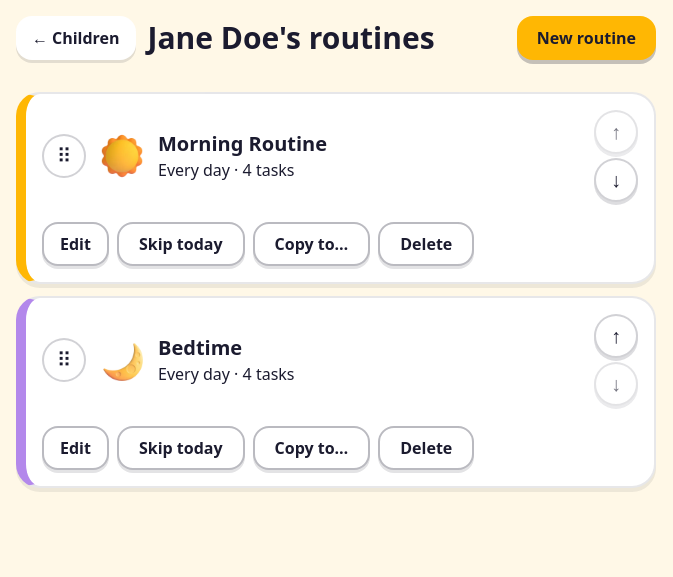
Test: RoutineListScreen › explains when today is already earned
Click the button with aria-label "Skip Morning Routine today" at {"x": 181, "y": 244}, box [117,222,245,266]
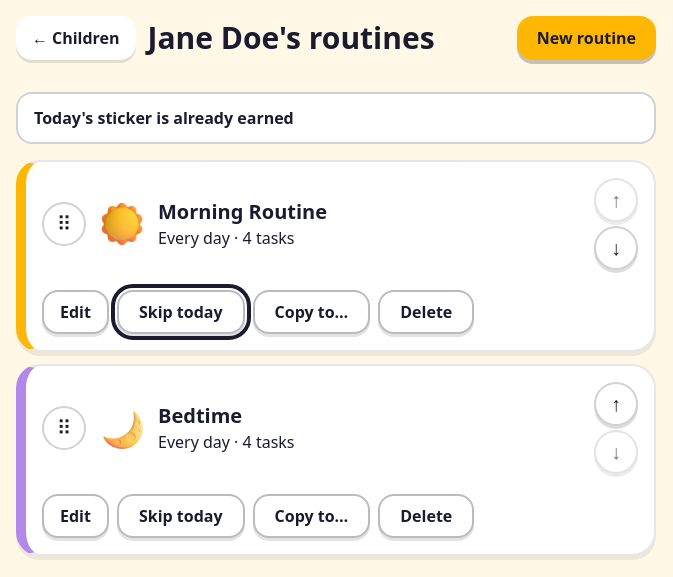
Result: the text "Today's sticker is already earned" is shown at [16,92,656,144]
